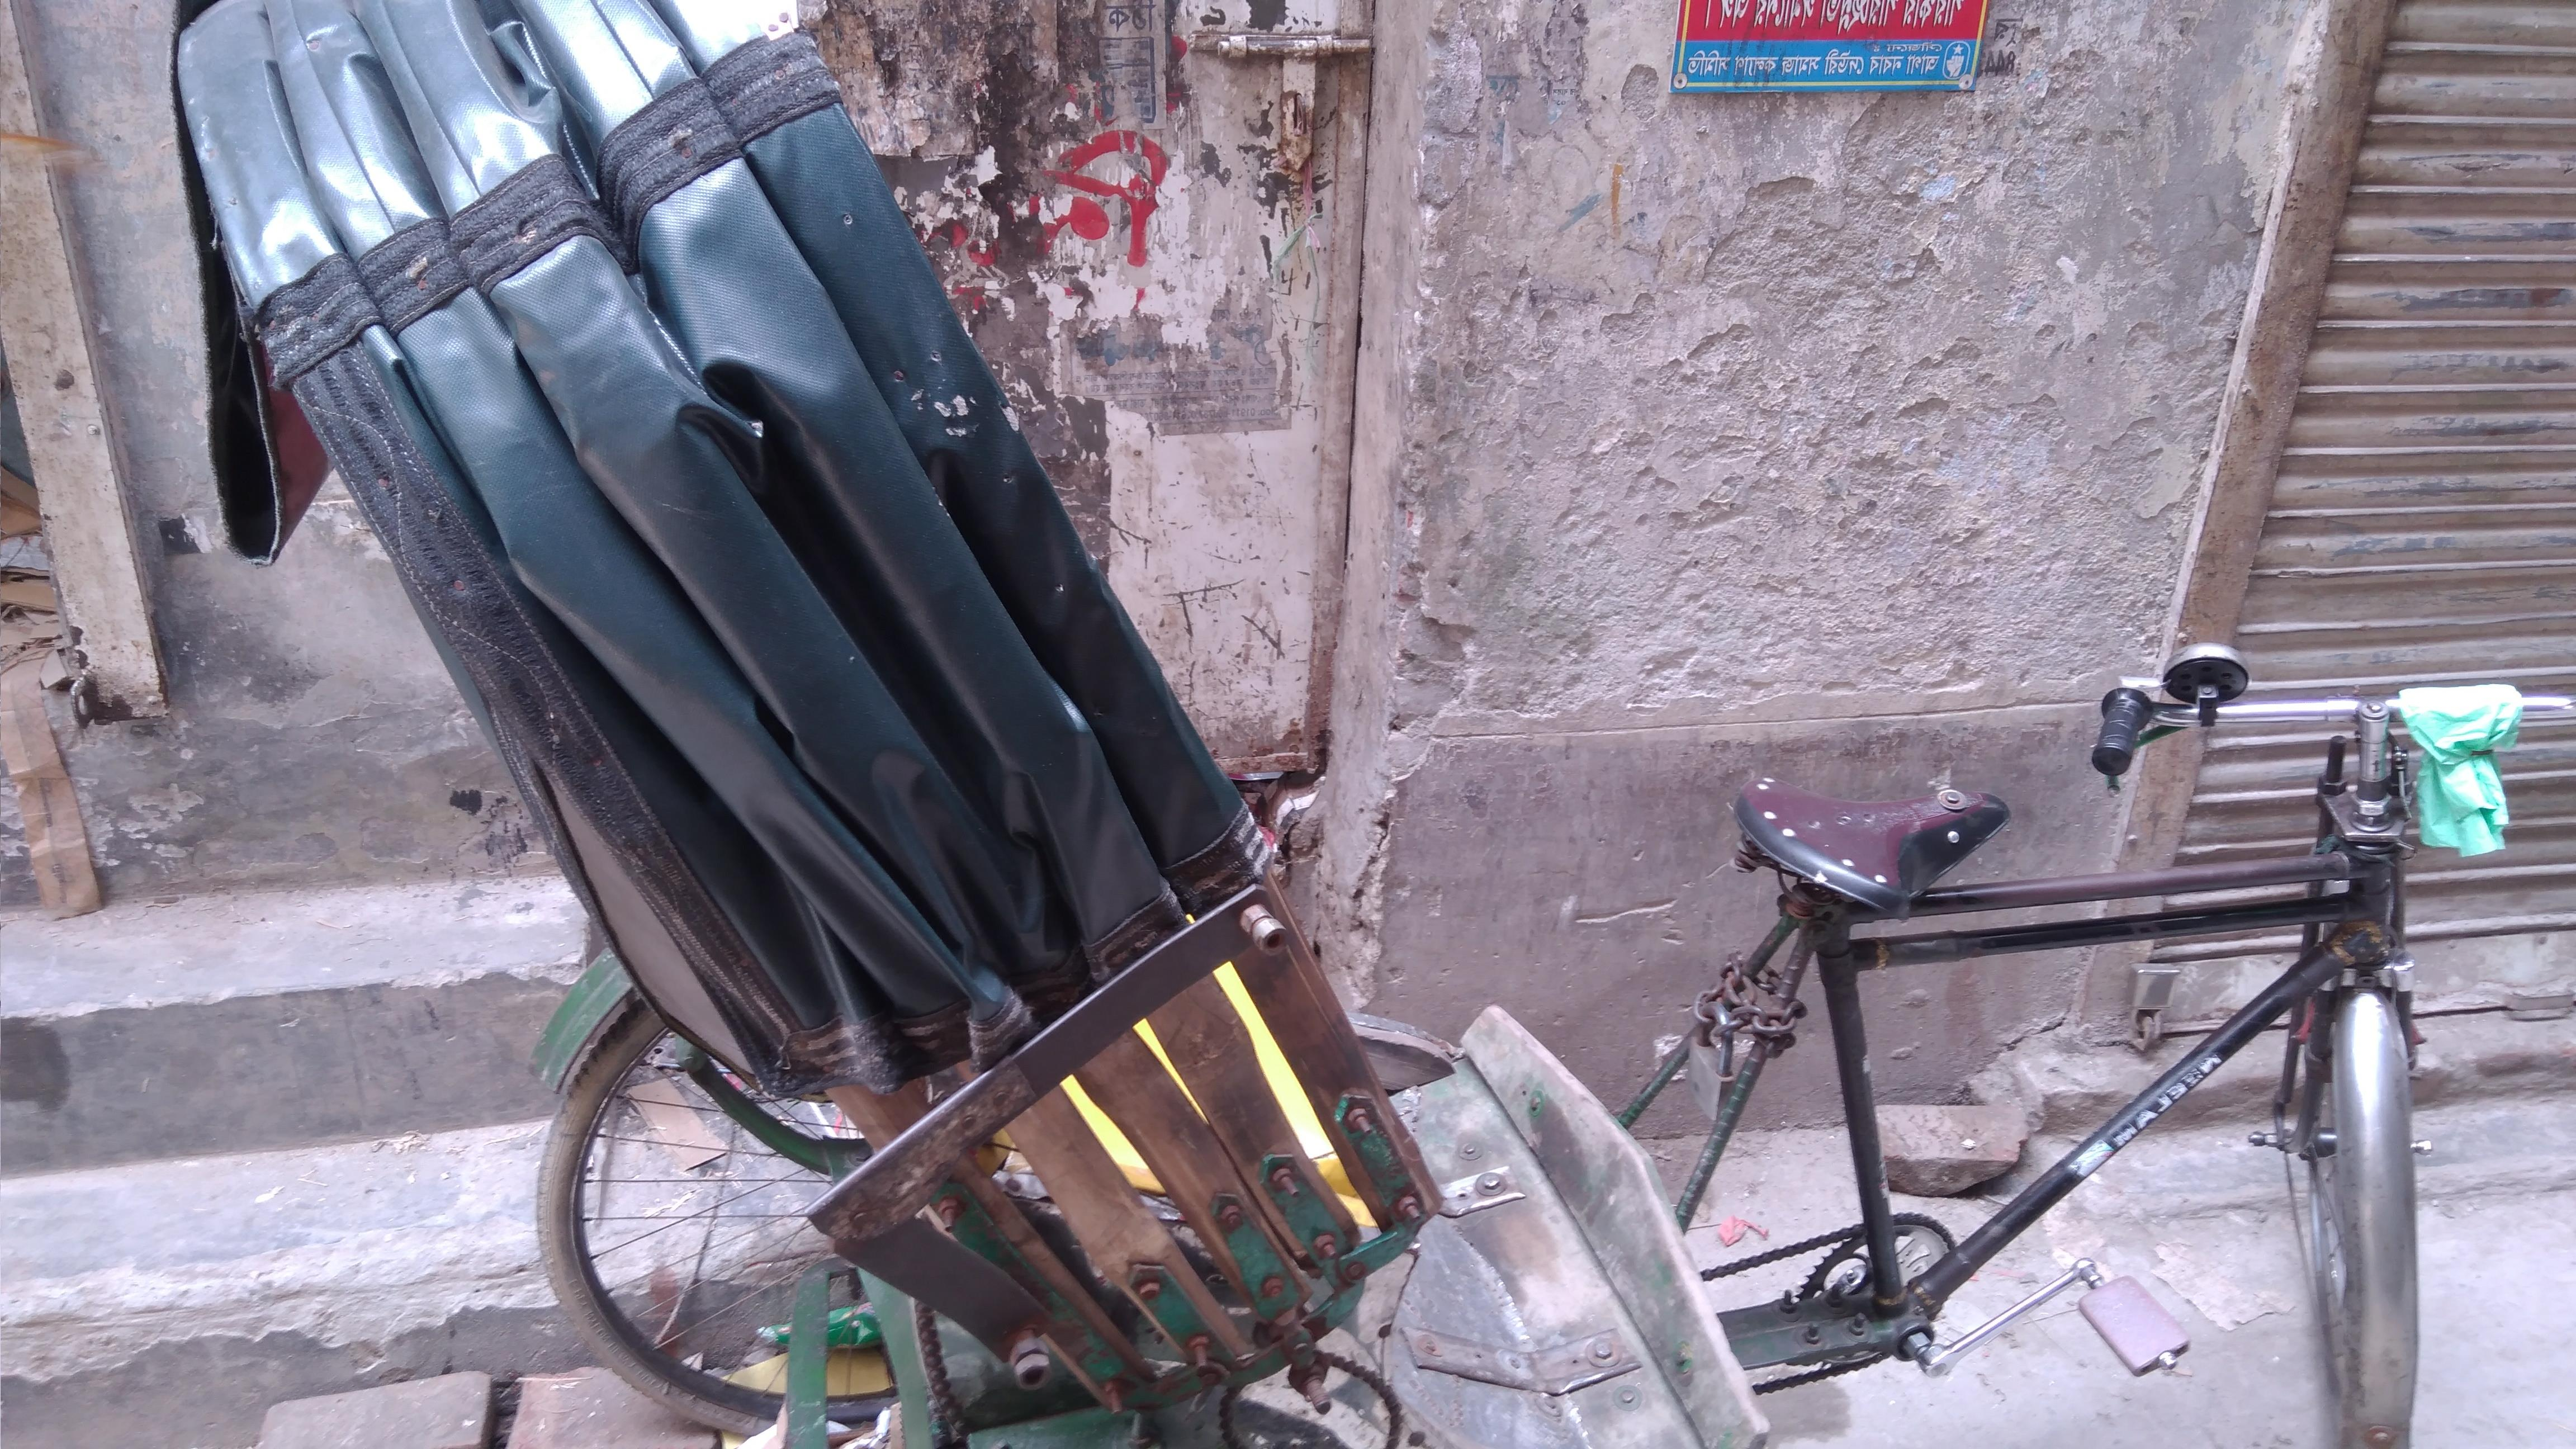Rickshaw: (138, 12, 2518, 1444)
